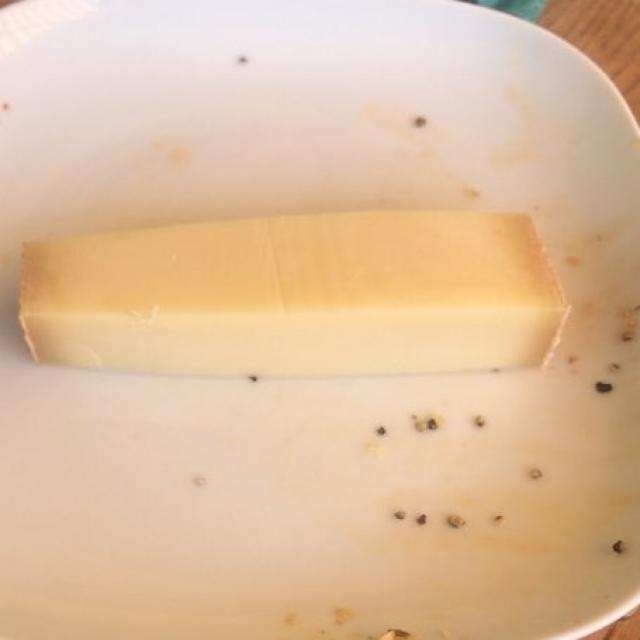gruyere: (25, 207, 555, 378)
